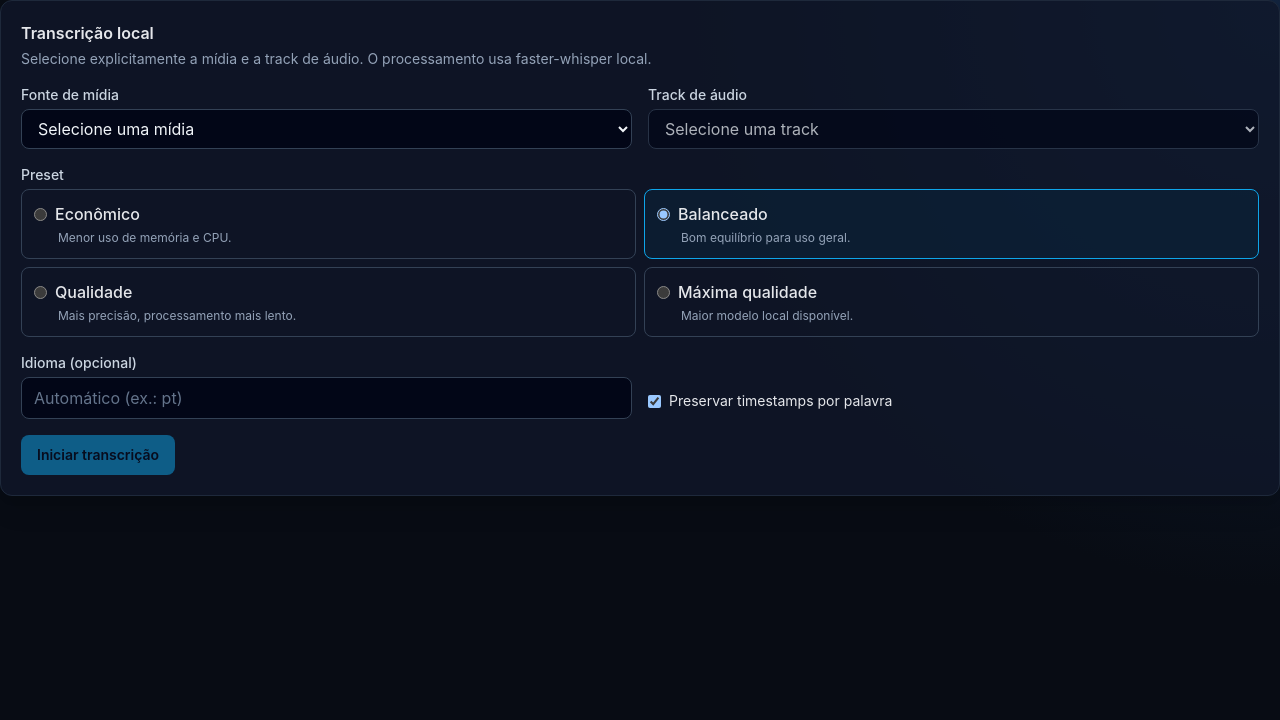
Test: starts a job with explicit source and track then loads its transcript
Select "Tela — screen.mp4" in the dropdown labelled "Fonte de mídia" at {"x": 326, "y": 129}, box [21,109,632,149]
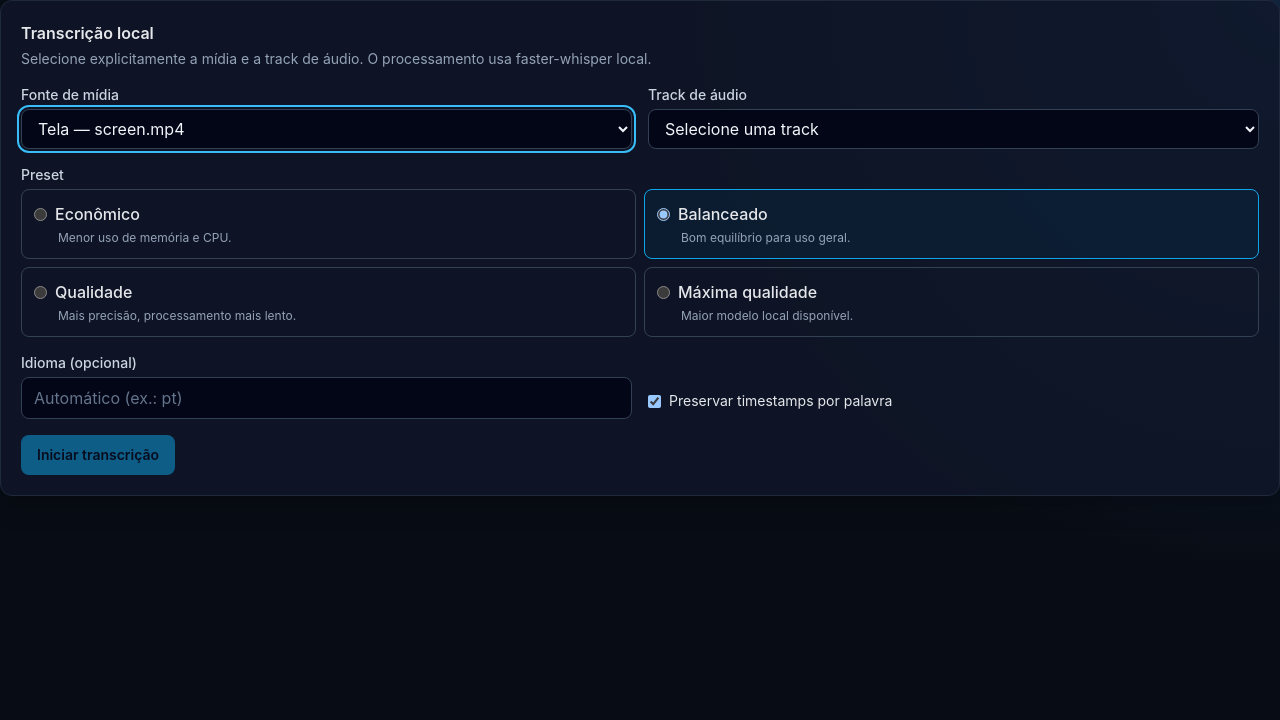
Select "Track 2 — aac, 2 canais, pt" in the dropdown labelled "Track de áudio" at {"x": 954, "y": 129}, box [648,109,1259,149]
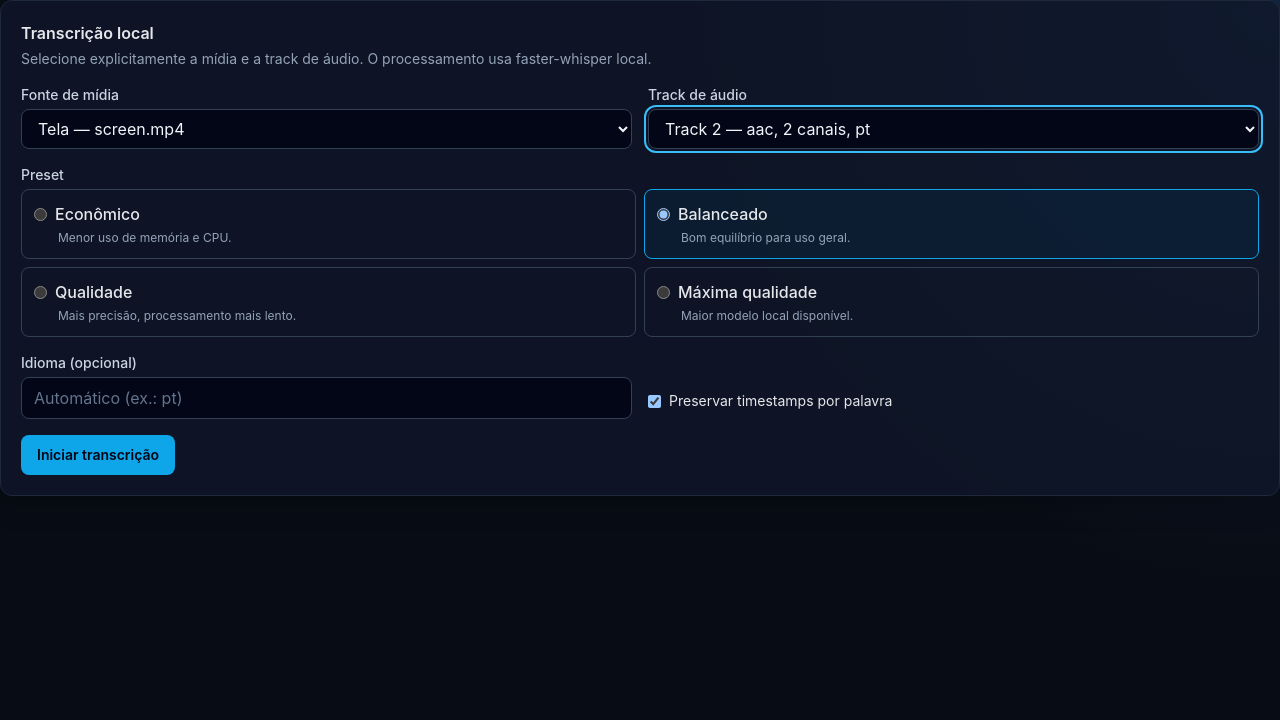
Click the button "Iniciar transcrição".
click(98, 455)  # box [21,435,175,475]
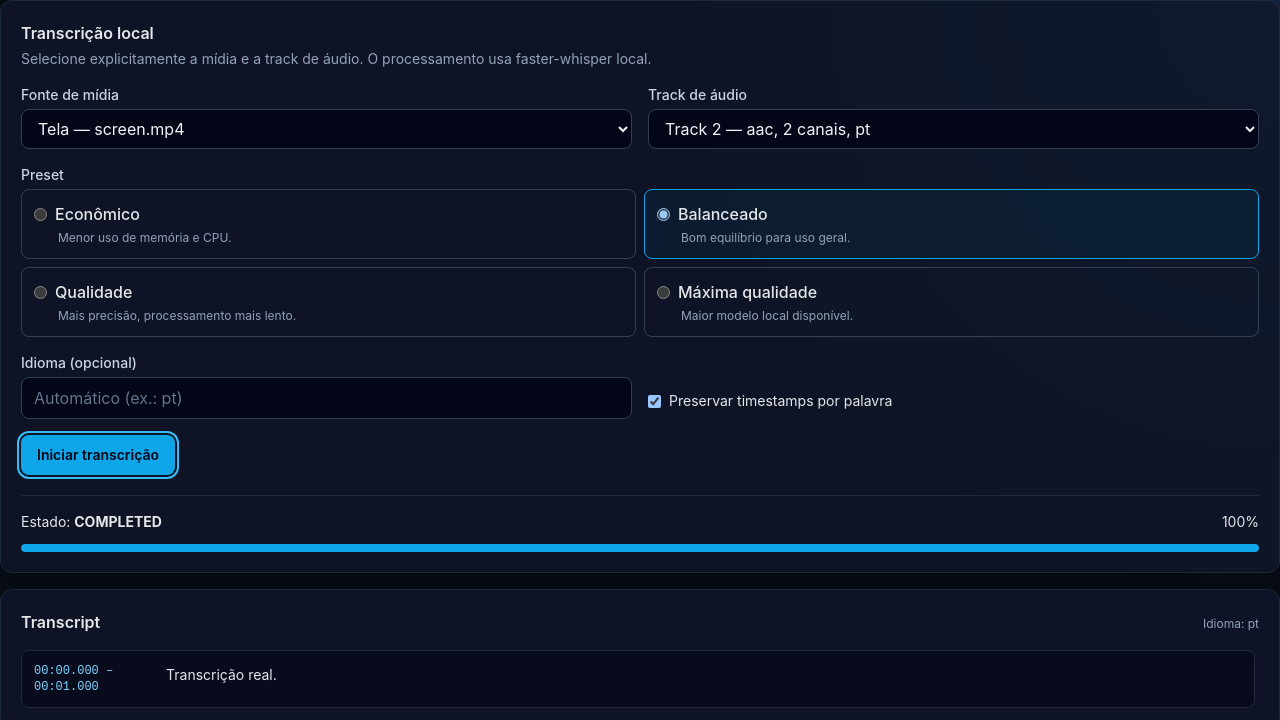
Check: the text "Transcrição real." is shown, box [166,666,277,683]
Check: the text "100%" is shown, box [1222,512,1259,532]
